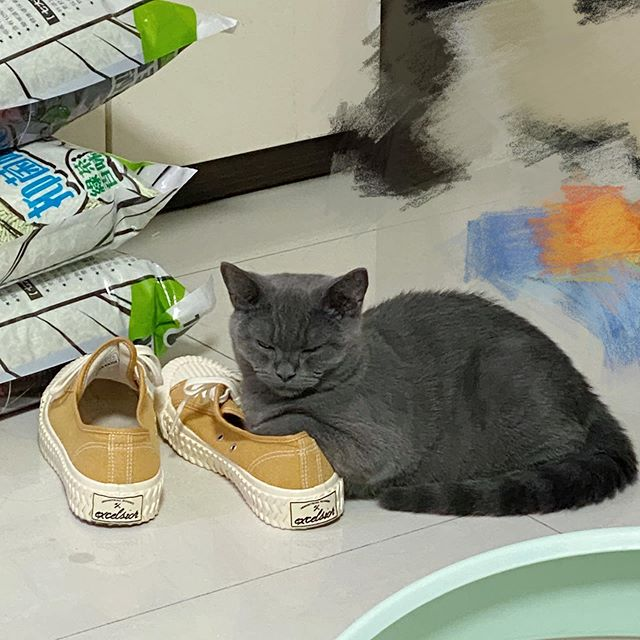cat: (220, 258, 368, 396)
